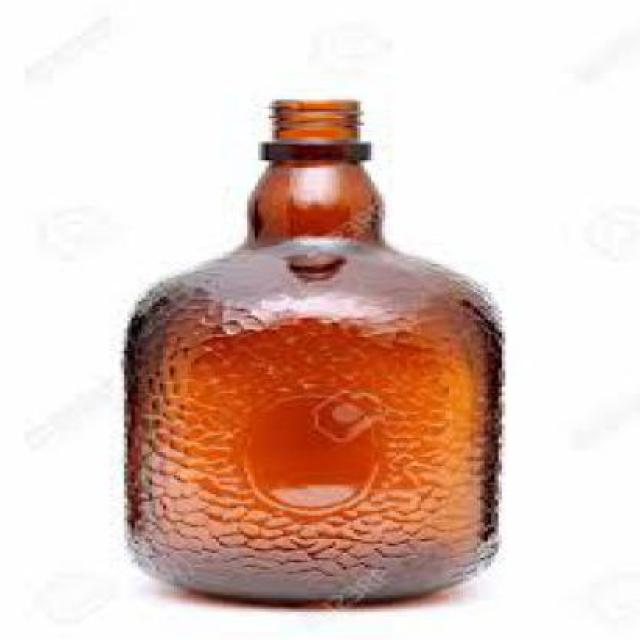kaca: (122, 98, 496, 603)
